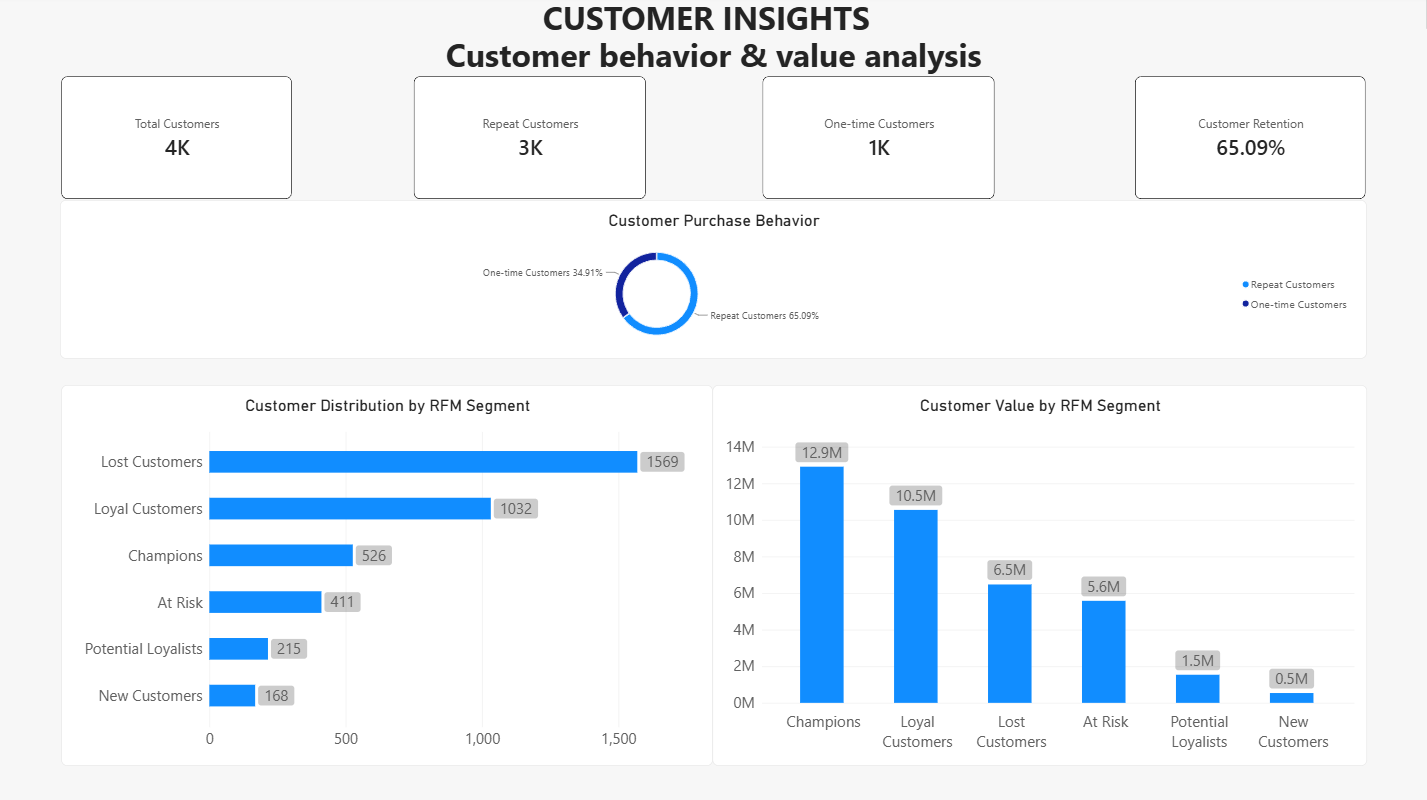

This screenshot's page, from the dashboard's own definition file:
{"tool":"powerbi","page":{"name":"Customer Insights","canvas":[1920,1080],"ordinal":2},"visuals":[{"type":"textbox","box":[0,0,1920,50],"z":0},{"type":"textbox","box":[0,50,1920,60],"z":1},{"type":"cardVisual","fields":{"Data":["orders.Total Customers"]},"box":[88.5,109.1,308.7,164.7],"z":2},{"type":"cardVisual","fields":{"Data":["orders.Repeat Customers"]},"box":[559.9,109.1,310.8,164.7],"z":3},{"type":"cardVisual","fields":{"Data":["orders.One-time Customers"]},"box":[1025,109.1,310.8,164.7],"z":4},{"type":"cardVisual","fields":{"Data":["orders.Repeat Purchase Rate %"]},"box":[1523.2,109.1,308.7,164.7],"z":5},{"type":"donutChart","title":"Customer Purchase Behavior","fields":{"Category":["Customer Type.Customer Type"],"Y":["Customer Type.Customer Type Count"]},"box":[86.4,273.8,1745.5,212],"z":6},{"type":"clusteredBarChart","title":"Customer Distribution by RFM Segment","fields":{"Category":["Customer RFM.RFM Segment"],"Y":["Count(Customer RFM.customer_id)"]},"box":[88.5,520.8,870.7,508.4],"z":7},{"type":"clusteredColumnChart","title":"Customer Value by RFM Segment","fields":{"Category":["Customer RFM.RFM Segment"],"Y":["orders.Segment Revenue"]},"box":[959.2,520.8,874.8,508.4],"z":8}]}

Visuals, with their boxes in screenshot pixels (x1, y1, x2, y2), scaled from the page's 1920x1080 canvas onto the 1427x800 screenshot:
textbox: locate(0, 0, 1426, 37)
textbox: locate(0, 37, 1426, 81)
cardVisual - orders.Total Customers: locate(66, 81, 295, 203)
cardVisual - orders.Repeat Customers: locate(416, 81, 647, 203)
cardVisual - orders.One-time Customers: locate(762, 81, 993, 203)
cardVisual - orders.Repeat Purchase Rate %: locate(1132, 81, 1362, 203)
"Customer Purchase Behavior" donutChart: locate(64, 203, 1362, 360)
"Customer Distribution by RFM Segment" clusteredBarChart: locate(66, 386, 713, 762)
"Customer Value by RFM Segment" clusteredColumnChart: locate(713, 386, 1363, 762)
